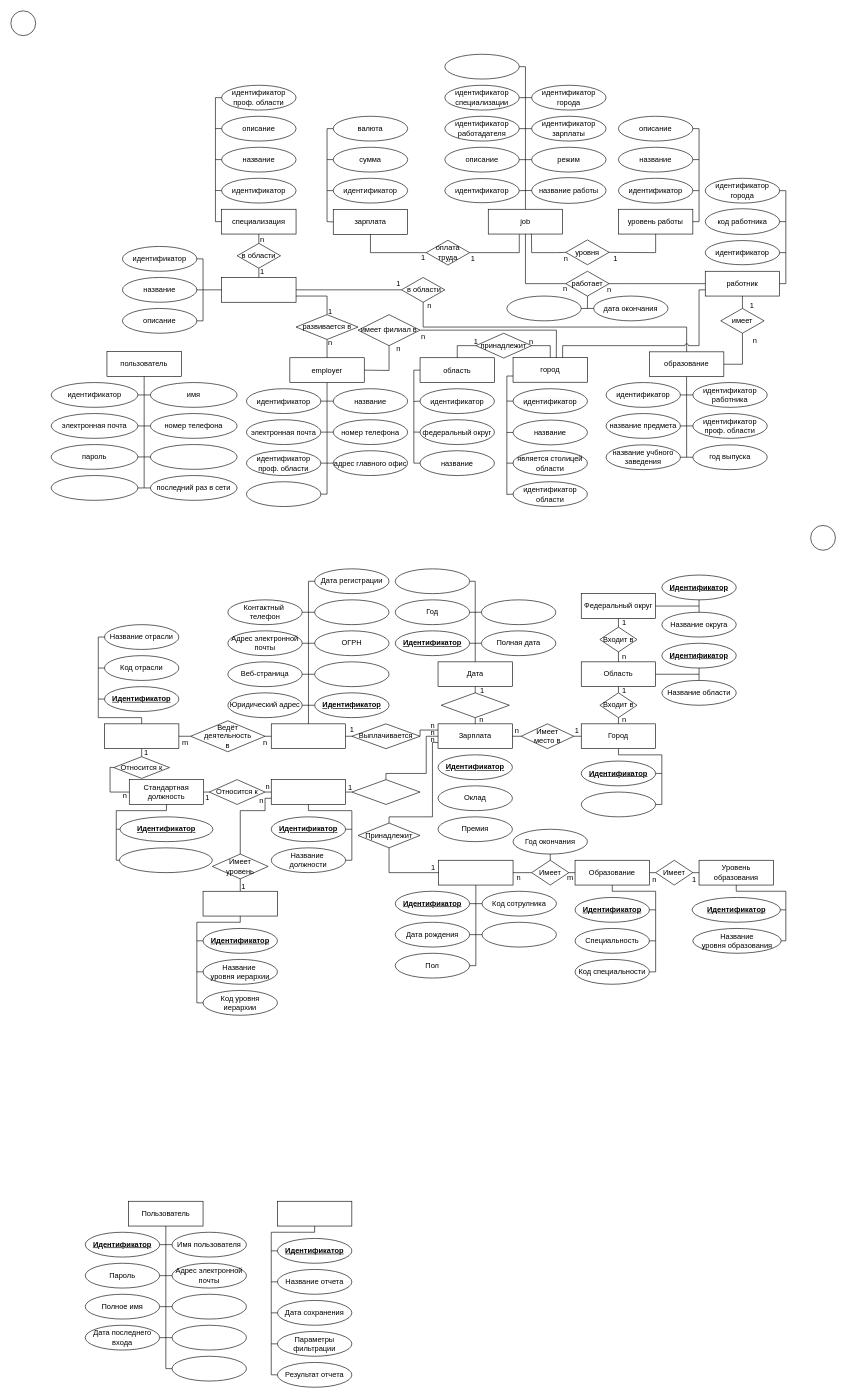
This 846x1398 diagram has some shape labels left out. The centre of each missing label's shape, as x and y in pixels:
дата начала: the point at 543,308
Дата начала карьеры: the point at 518,934
дата создания аккаунта: the point at 94,487
Должность: the point at 308,791
идентификатор уровня работы: the point at 481,66
ИНН: the point at 351,674
Квартал: the point at 518,612
количество сотрудников: the point at 283,494
Количество сохраненных отчетов: the point at 208,1337
КПП: the point at 351,612
Месяц: the point at 432,581
Название города: the point at 618,804
Название стандартной должности: the point at 165,860
Начисляется за: the point at 385,791
Отрасль: the point at 141,736
проф. область: the point at 258,289
Работодатель: the point at 308,736
Сотрудник: the point at 475,872
Сохраненный отчет: the point at 314,1213
статус: the point at 193,456
Уровень иерархии: the point at 239,903
Фиксируется на: the point at 475,705
Флаг ETL-пользователя: the point at 208,1368
Флаг активности: the point at 208,1306
